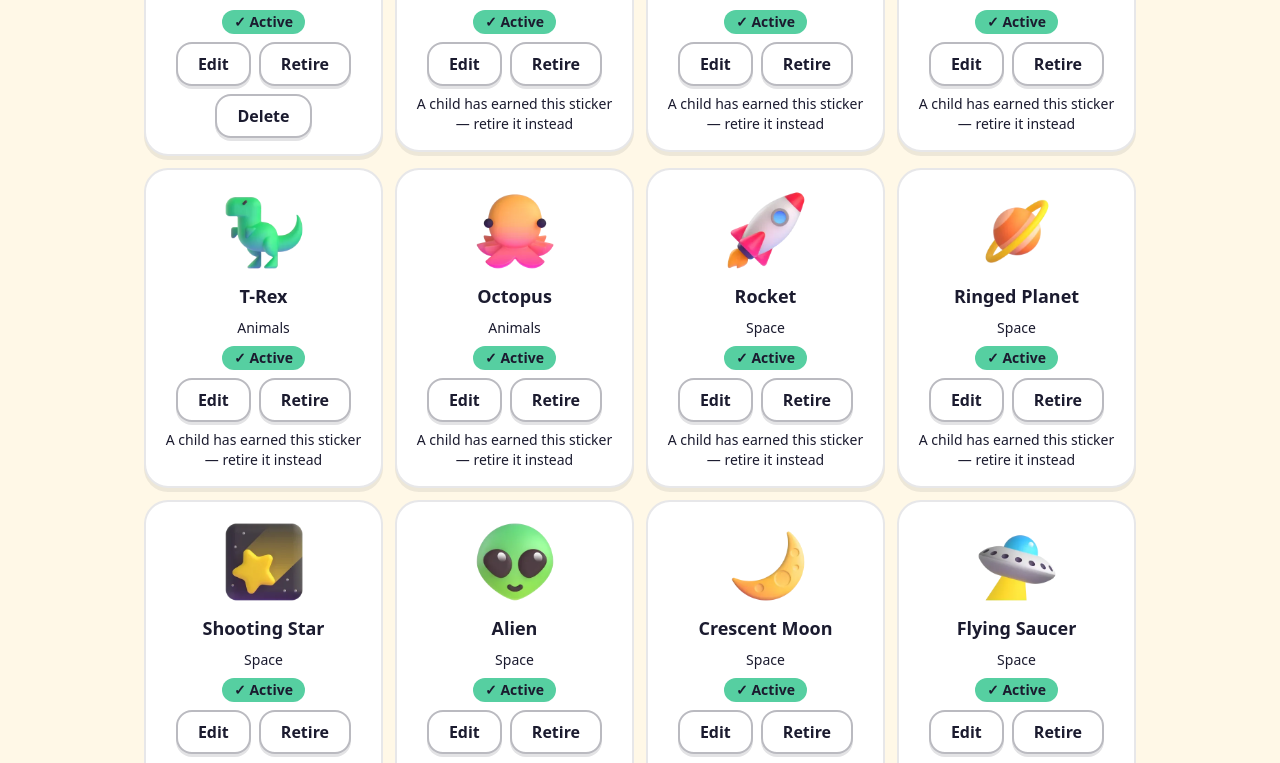
it: LibraryScreen › retires and reactivates a sticker
(page scrolled)
Expected: the heading "Rocket" is shown, [734, 282, 796, 310]
Click the button with aria-label "Retire Rocket" at (807, 400), box [761, 378, 853, 422]
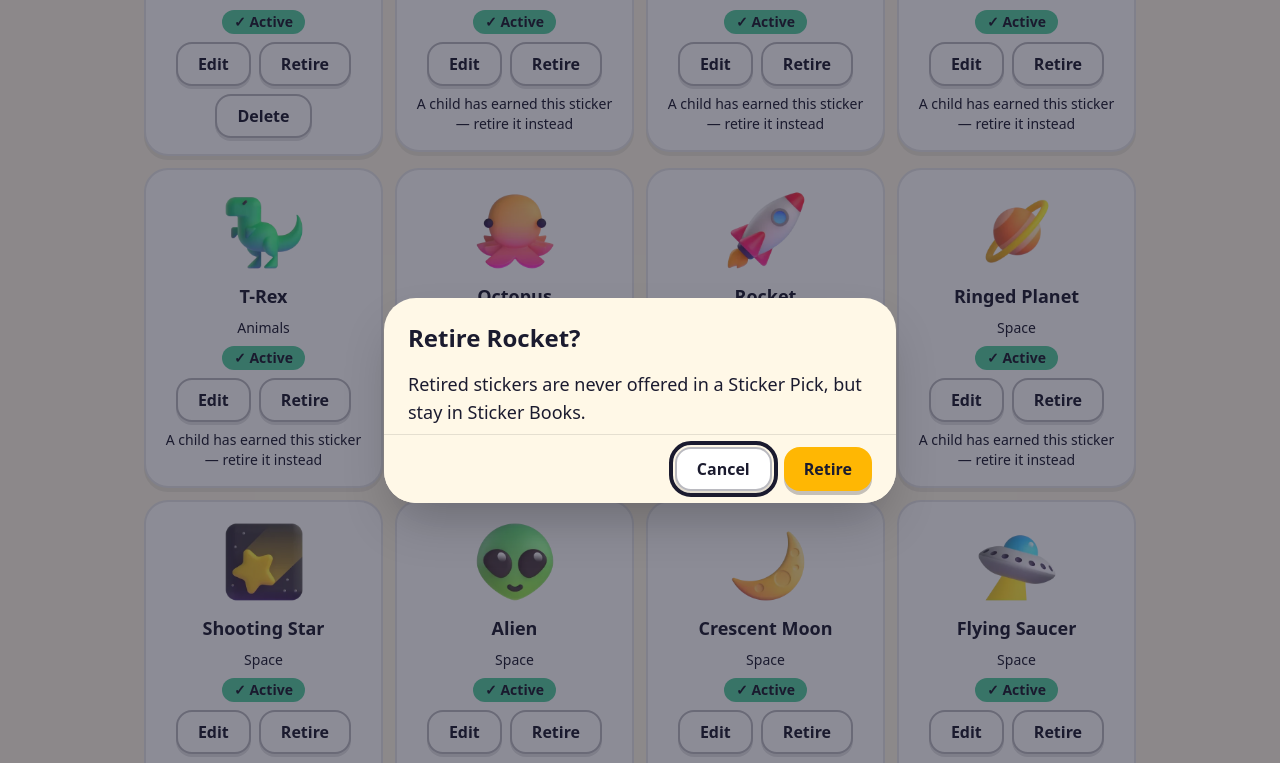
Now the text "never offered in a Sticker Pick" is shown, box [408, 372, 862, 424]
Click the button "Retire" at (828, 468), box [784, 446, 872, 490]
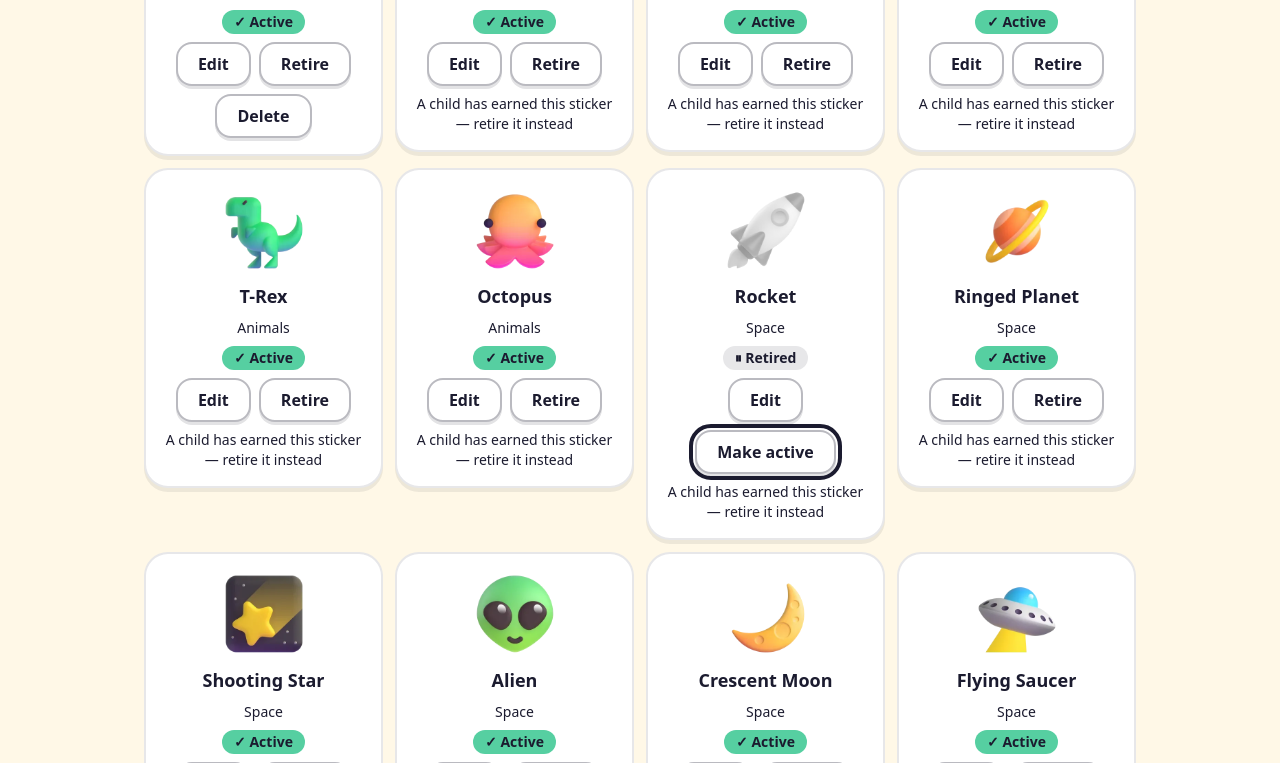
Now the text "⏸ Retired" is shown, box [723, 346, 808, 370]
Click the button with aria-label "Make Rocket active" at (766, 452), box [695, 430, 836, 474]
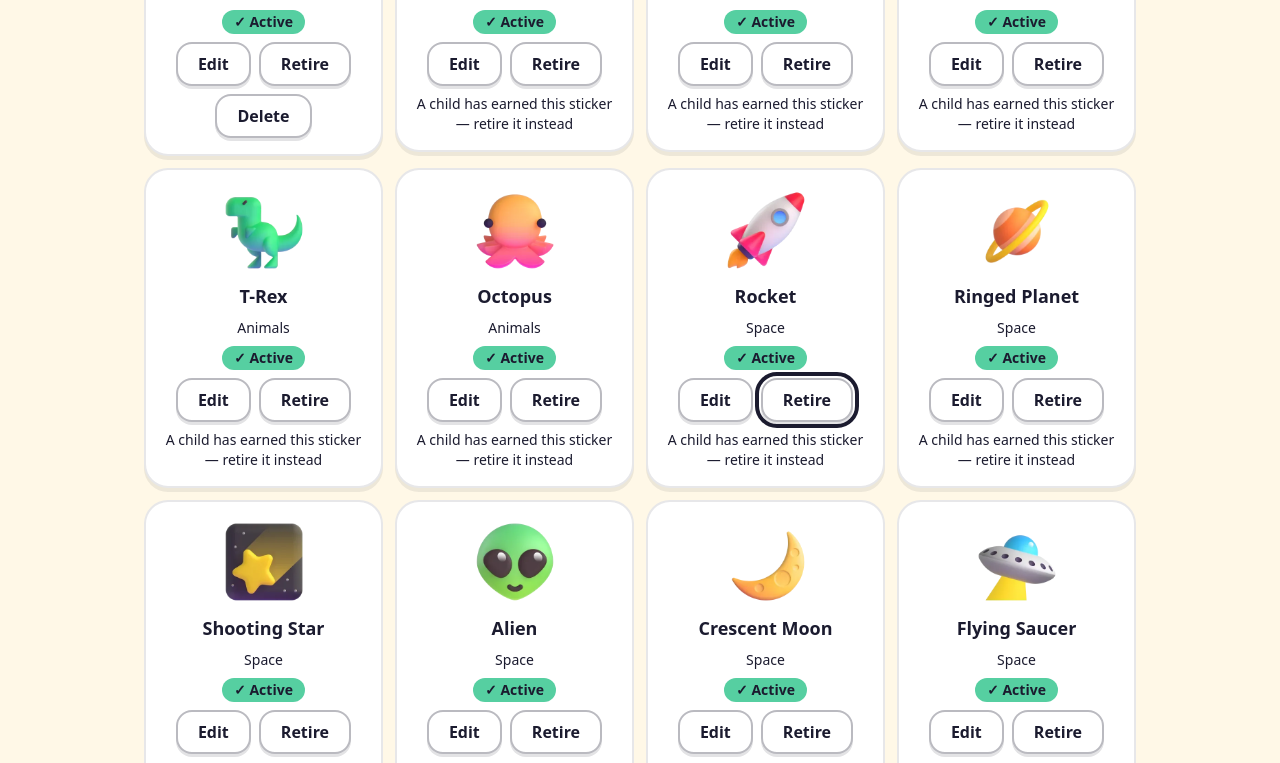
Now the text "✓ Active" below "Rocket" is shown, box [736, 348, 795, 367]
